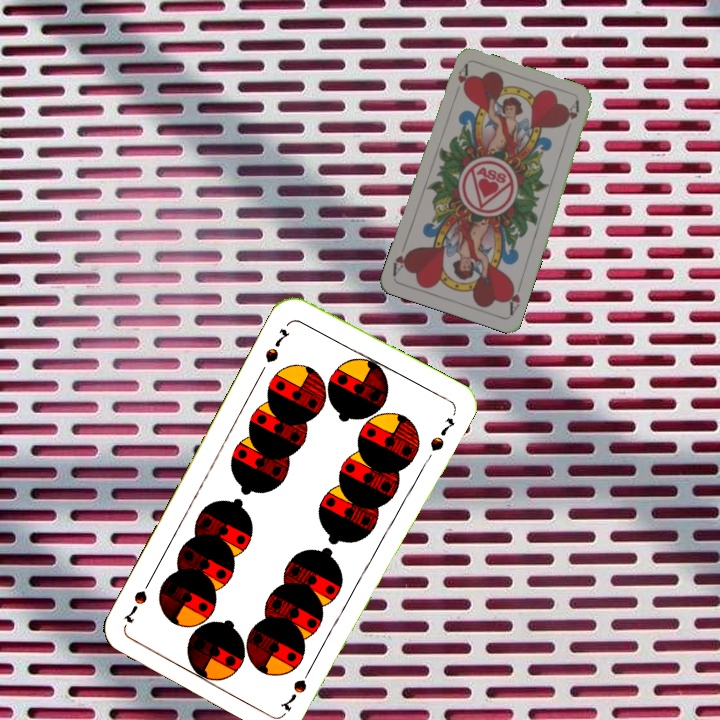HA: (450, 61, 472, 100), (503, 278, 523, 318)
S7: (278, 660, 316, 714), (261, 324, 293, 366)
